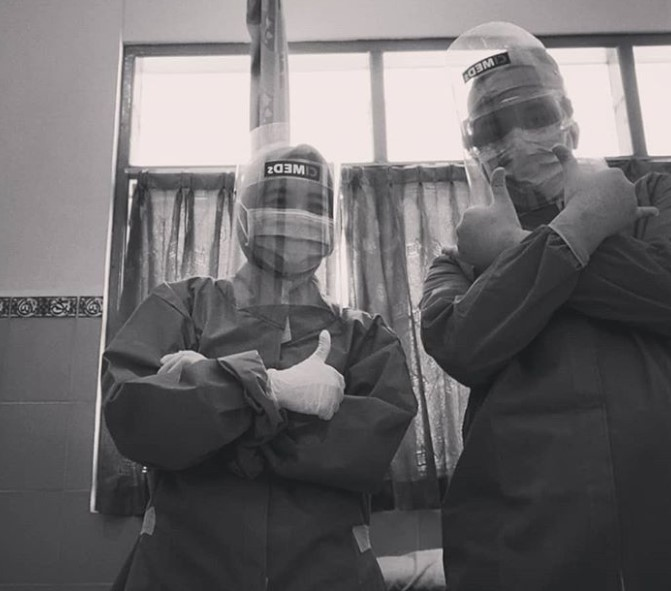face_with_mask: (440, 18, 587, 215), (229, 117, 347, 317)
